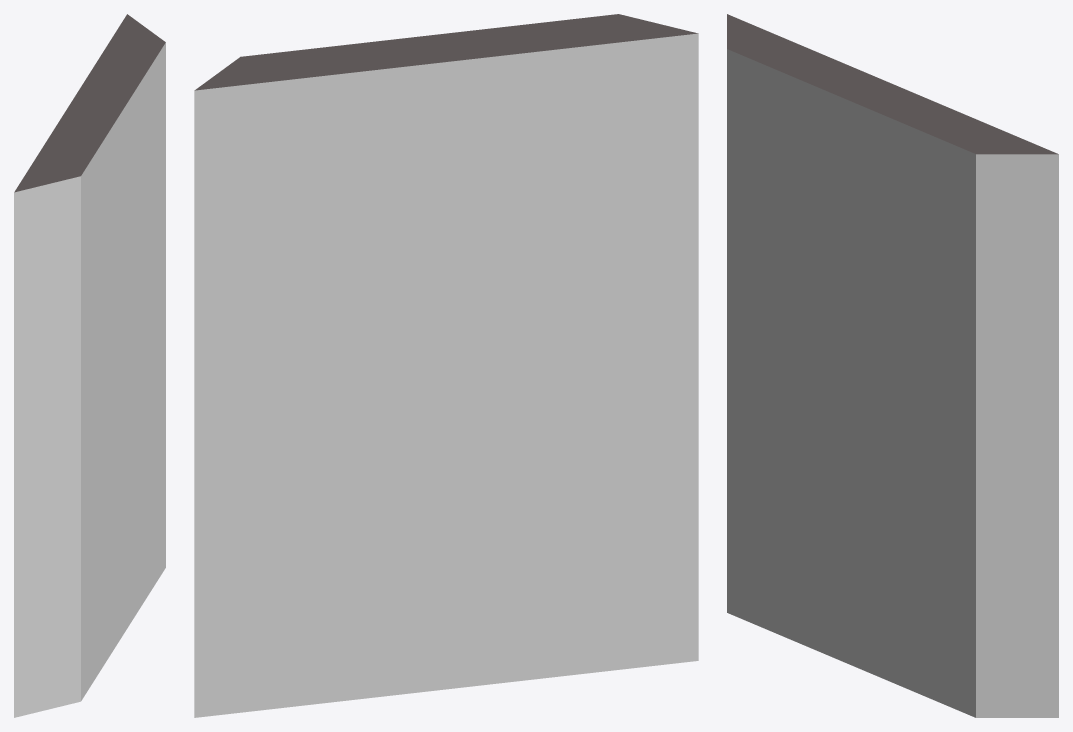
The picture shows the model from 3 angles, left to right: view 1: azimuth 30°, elevation 25°; view 2: azimuth 150°, elevation 25°; view 3: azimuth 270°, elevation 25°; orthographic projection. The views are drawn at different scales.
Size of the model in its own units: 128 by 240 by 128.
Materials: 1 (1 with a texture image).
